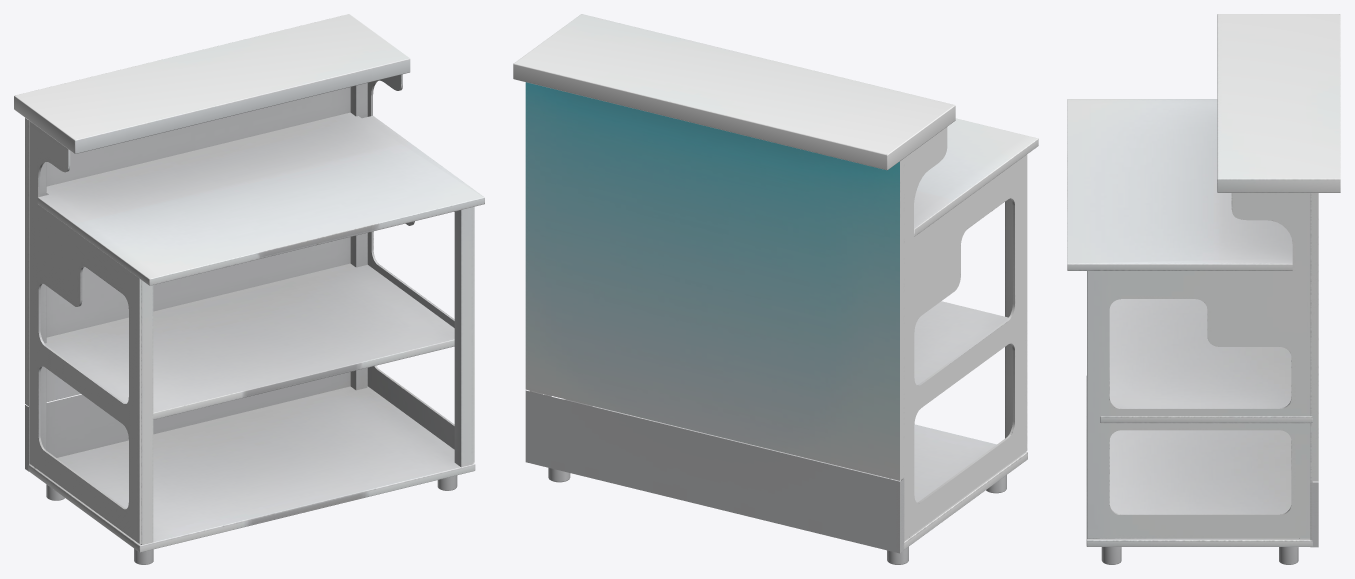
Rendered from lumino_gerade.glb.
3 renders of one model, left to right at view 1: azimuth 30°, elevation 25°; view 2: azimuth 150°, elevation 25°; view 3: azimuth 270°, elevation 25°, orthographic. The views are drawn at different scales.
Parts seen in each view (by area): view 1: lumino_gerade-white; view 2: lumino_gerade-white; view 3: lumino_gerade-white.
Boxes of the visible parts, x1,y1,x2,y2 form: lumino_gerade-white: [14, 14, 484, 564]; lumino_gerade-white: [513, 14, 1038, 564]; lumino_gerade-white: [1067, 14, 1340, 564].
Bounding box in the file's own units: 1 × 1.1 × 0.7002.
1 material, 1 textured.
